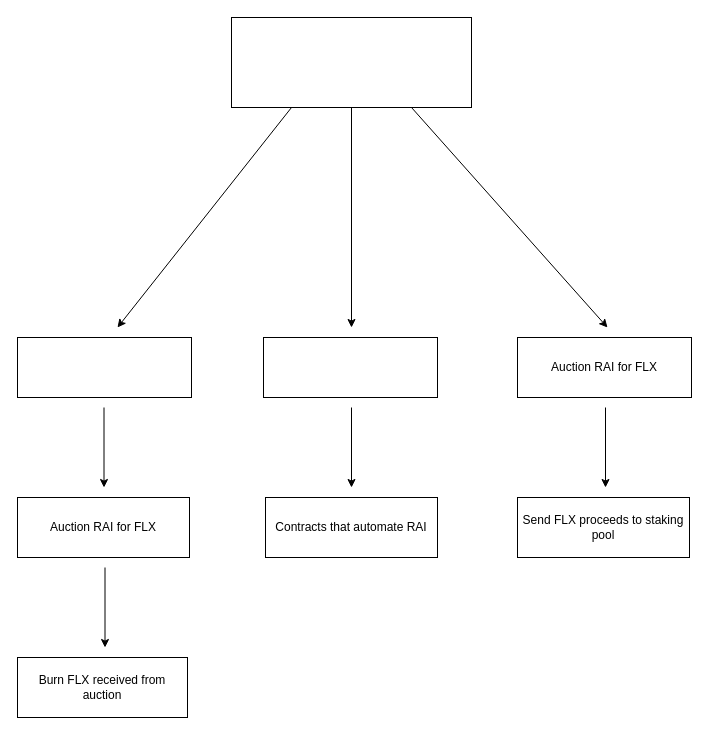
Image size: 709x735. Some labels were removed from this diagram. Each missing label, with the centre of its shape:
Borrow rate charged to RAI Safes: (x=351, y=62)
Protocol balance sheet: (x=104, y=367)
Stability Fee Treasury: (x=350, y=367)
